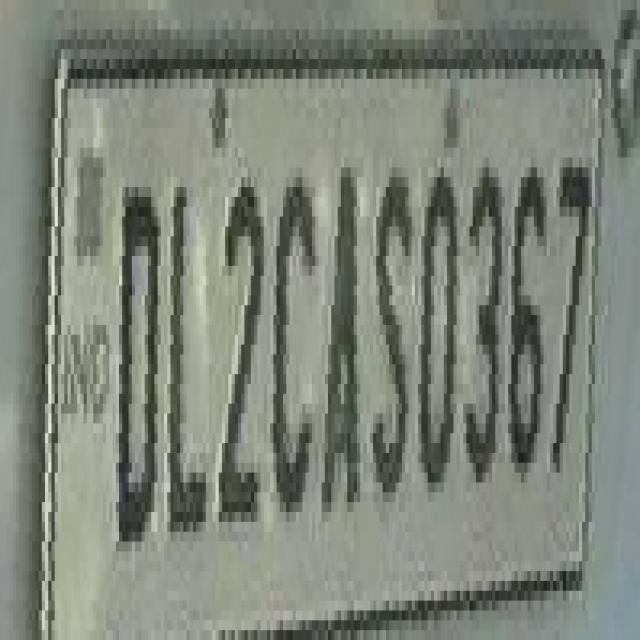license_plate: (0, 49, 611, 591)
